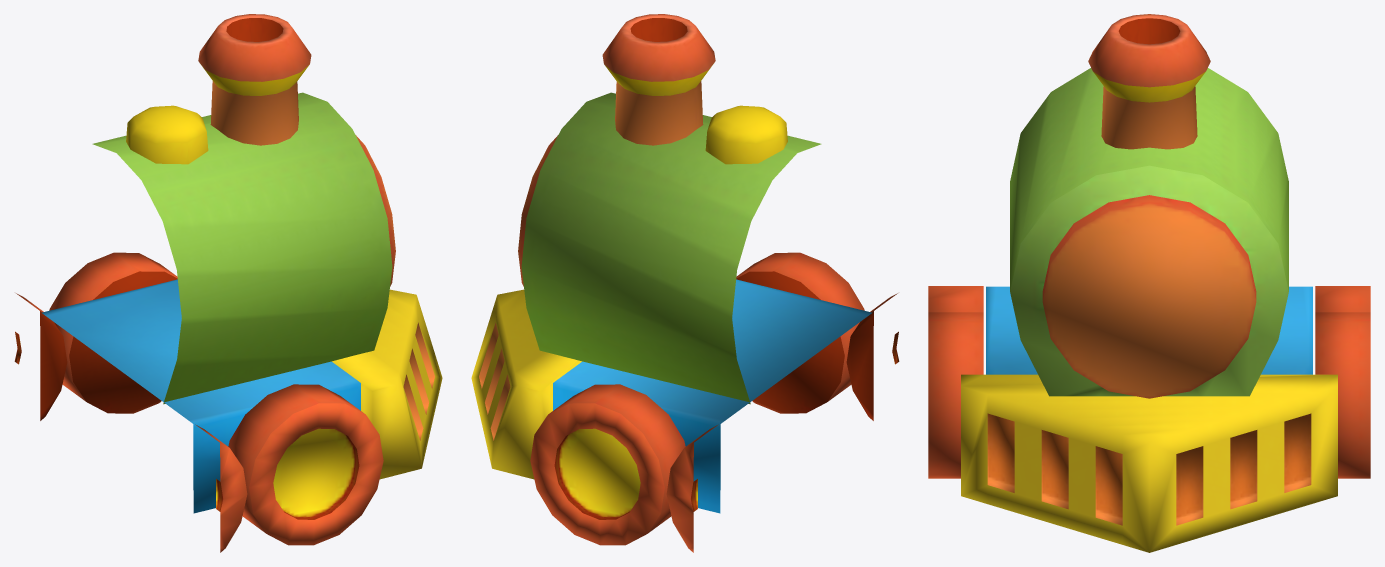
File: train_left.glb
The picture shows the model from 3 angles, left to right: view 1: azimuth 30°, elevation 25°; view 2: azimuth 150°, elevation 25°; view 3: azimuth 270°, elevation 25°; orthographic projection. The views are drawn at different scales.
Visible parts, largest first — view 1: tarin_left; view 2: tarin_left; view 3: tarin_left.
Part boxes in pixels (bbox=[...]): tarin_left: bbox=[14, 14, 442, 552]; tarin_left: bbox=[471, 14, 899, 552]; tarin_left: bbox=[928, 14, 1370, 552].
Bounding box in the file's own units: 0.7864 × 0.9902 × 0.8596.
Materials: 1 (1 with a texture image).
